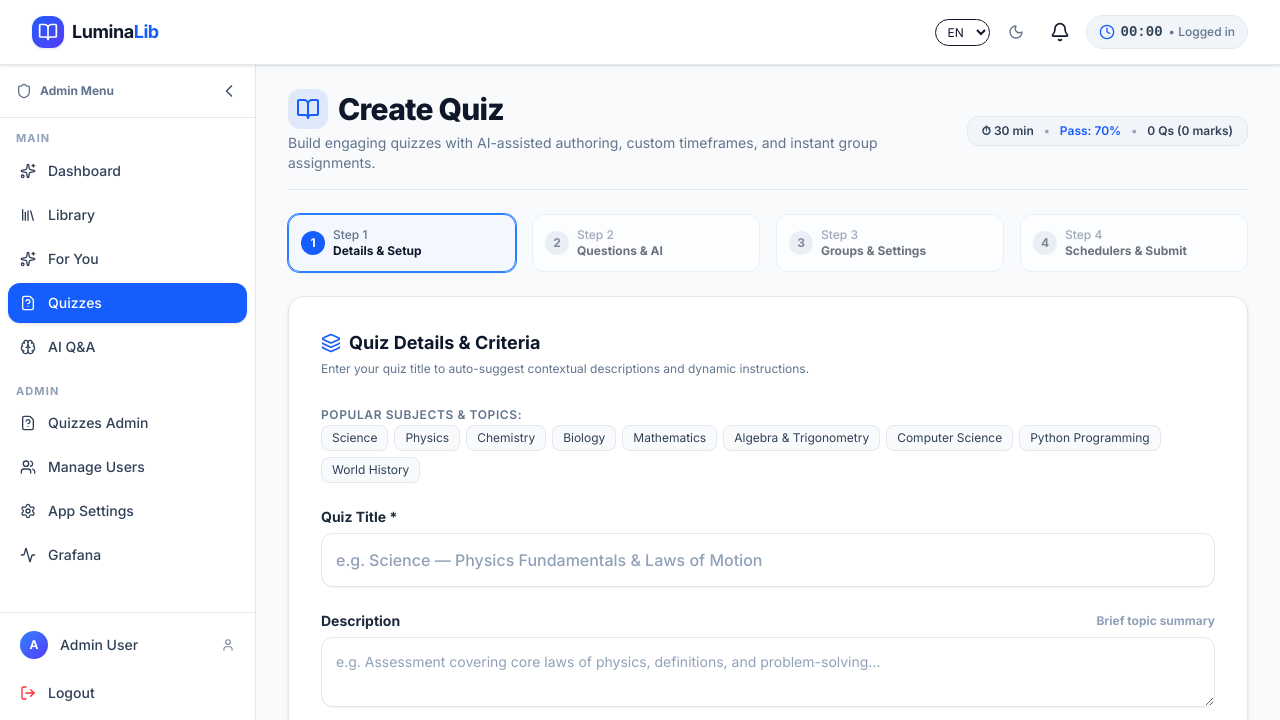
Test: Create Quiz Page Enhancements › navigates through steps and provides Review & Submit preview in Step 4
// Fill Title
Type "Science Quiz" into the field with placeholder "e.g. Science — Physics Fundamentals & Laws of Motion".
click(768, 560); type("Science Quiz")  # box [321,533,1215,587]
(page scrolled)
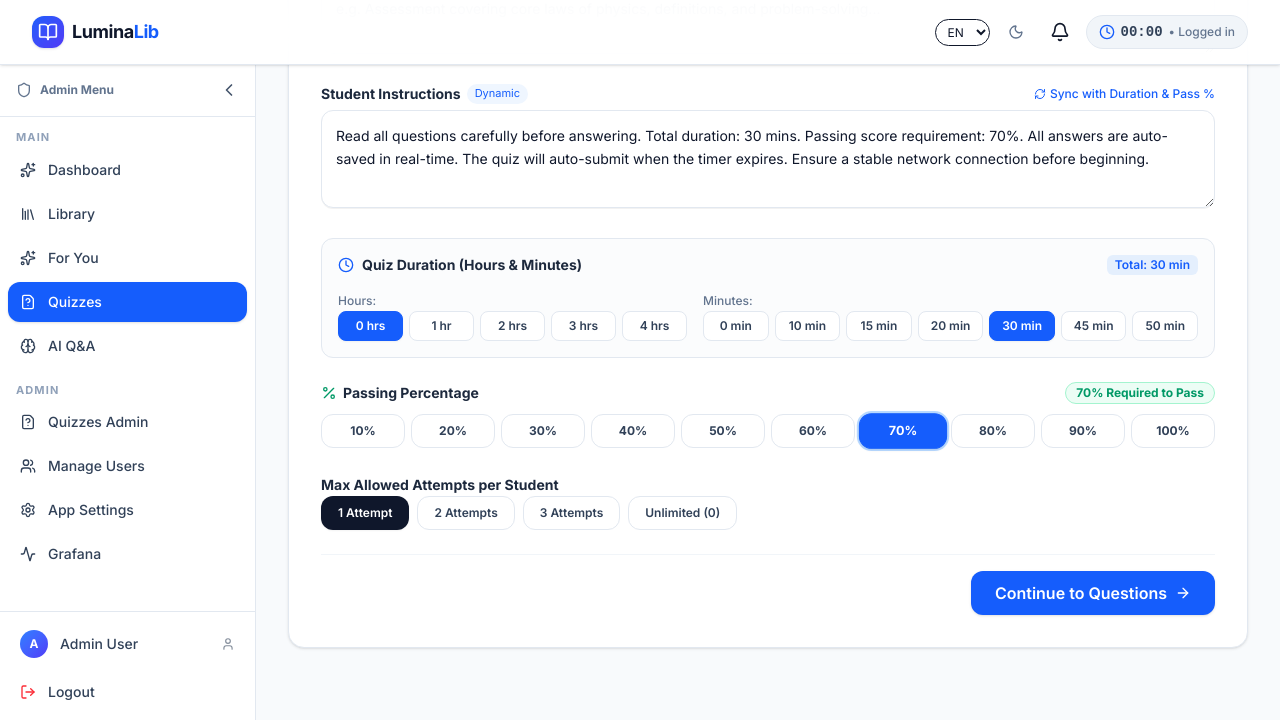
// Click Continue to Questions
Click the button "Continue to Questions".
click(1093, 593)  # box [971,571,1215,615]
(page scrolled)
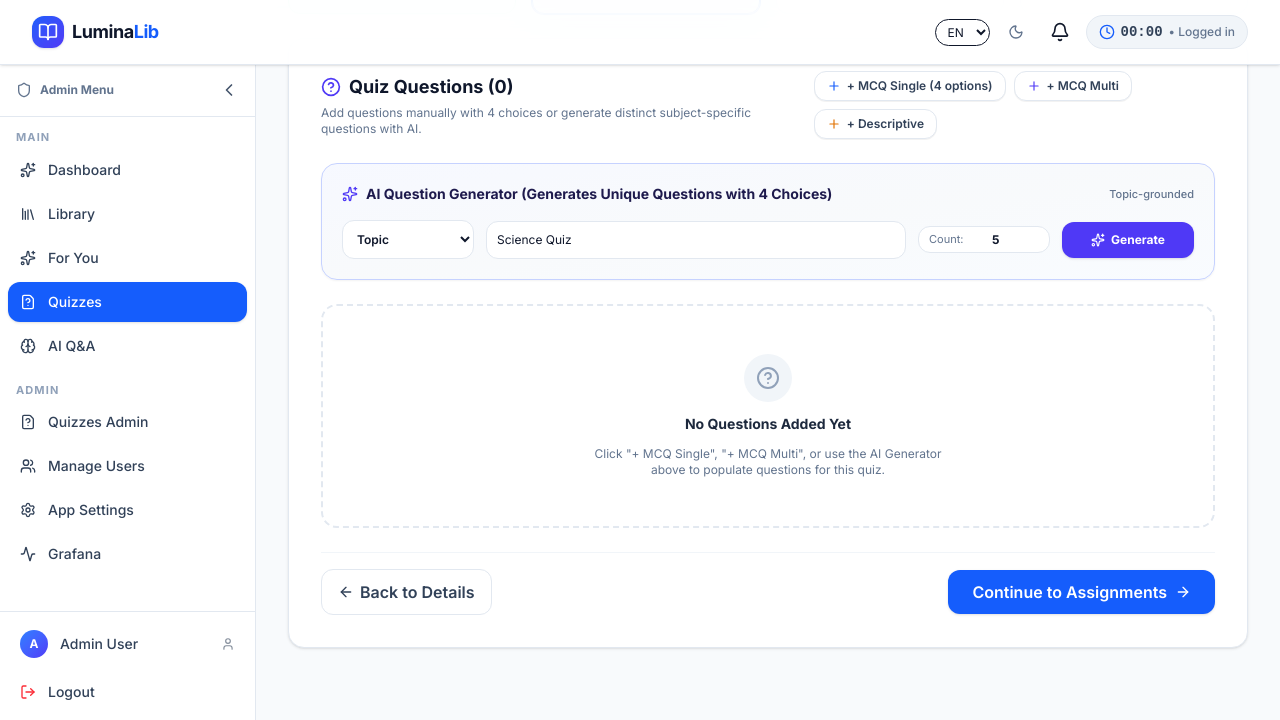
// Add MCQ Single (should have 4 options)
Click the button "+ MCQ Single (4 options)".
click(910, 86)  # box [814,71,1006,101]
(page scrolled)
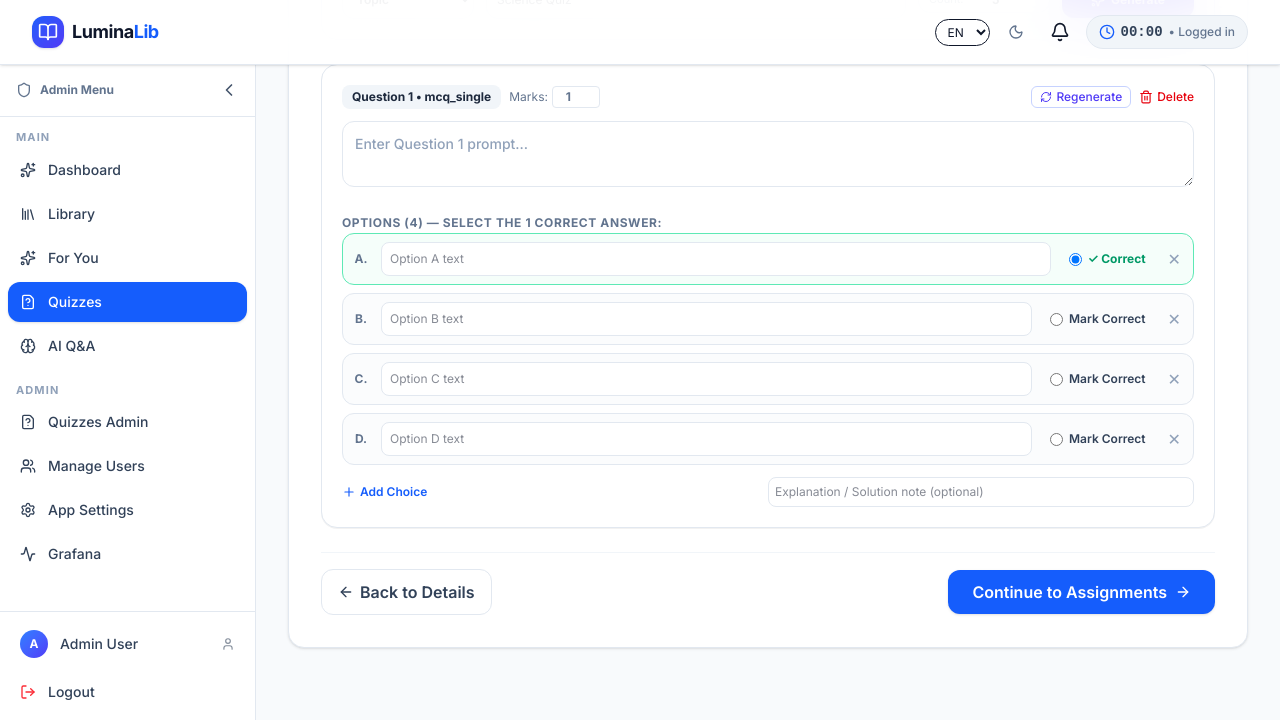
Result: the text box with placeholder "Enter Question 1 prompt..." is shown
Result: the field with placeholder "Option A text" is shown at [381,242,1051,276]
Result: the field with placeholder "Option B text" is shown at [381,302,1032,336]
// Fill Question 1
Type "What is H2O?" into the text box with placeholder "Enter Question 1 prompt...".
click(768, 154); type("What is H2O?")  # box [342,121,1194,187]
Type "Water" into the field with placeholder "Option A text".
click(716, 259); type("Water")  # box [381,242,1051,276]
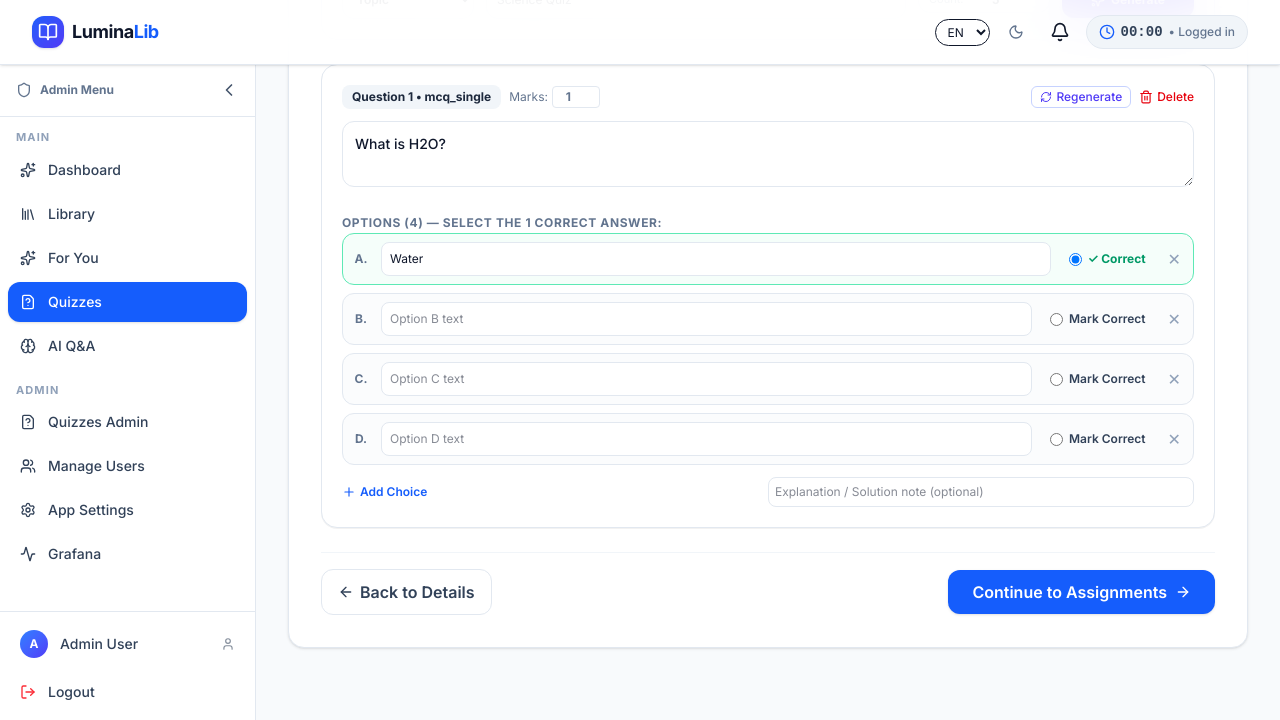
// Continue to Step 3 (Assignments)
Click the button "Continue to Assignments".
click(1082, 592)  # box [948,570,1215,614]
(page scrolled)
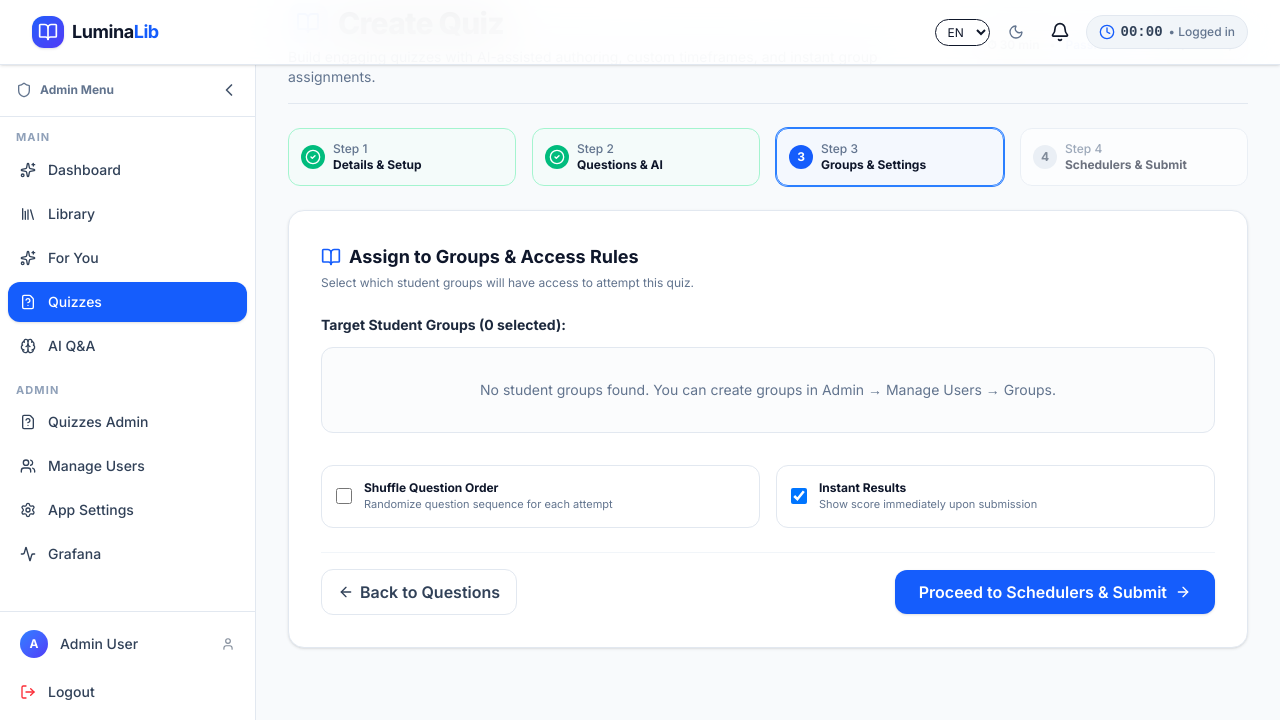
Result: the heading "Assign to Groups & Access Rules" is shown at [321,246,639,267]
// Continue to Step 4 (Schedulers & Submit)
Click the button "Proceed to Schedulers & Submit".
click(1055, 592)  # box [895,570,1215,614]
(page scrolled)
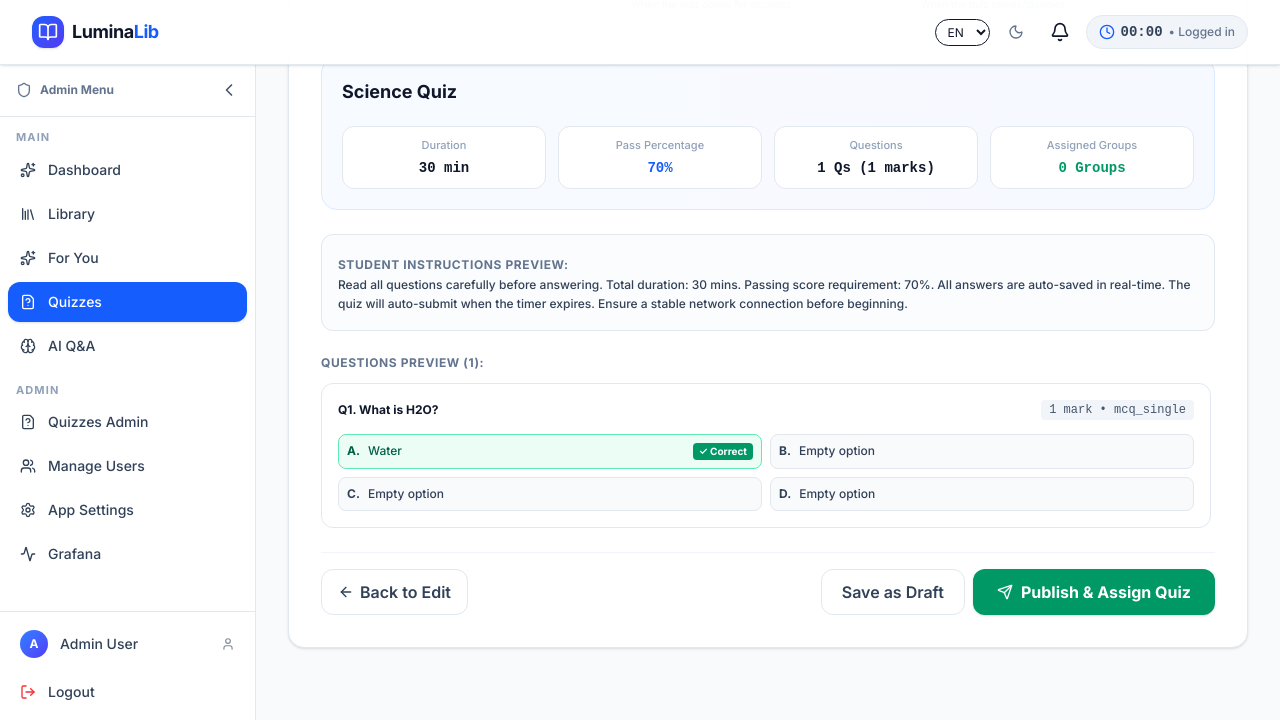
Result: the heading "Science Quiz" is shown at [342,81,457,102]
Result: the text "Q1. What is H2O?" is shown at [338,402,438,418]
Result: the text "Water" is shown at [368,443,402,458]
